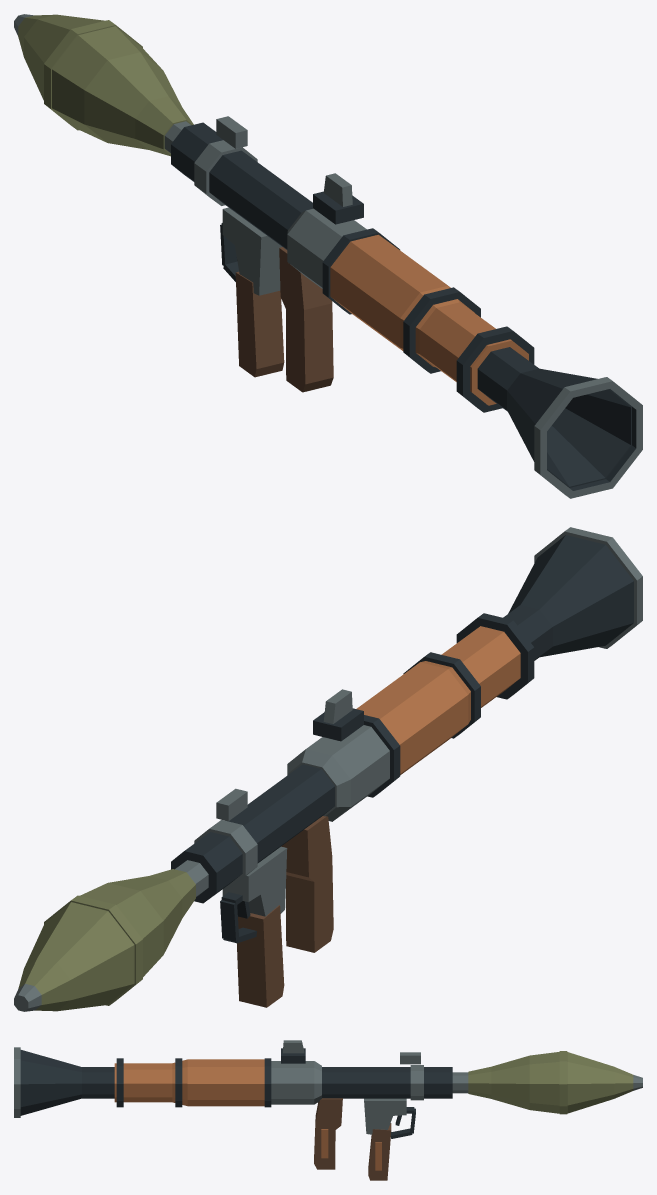
Rendered from rpg7.glb.
The picture shows the model from 3 angles, top to bottom: view 1: azimuth 30°, elevation 25°; view 2: azimuth 150°, elevation 25°; view 3: azimuth 270°, elevation 25°; orthographic projection. The views are drawn at different scales.
Visible parts, largest first — view 1: Warhead_12, Heat_shield_1, Launch_tube_0, Rear_flare_inside_6, Forward_grip_15, Pistol_grip_17, Rear_flare_5, Rear_rim_7, Trigger_housing_16, Breech_9, Shield_band_2, Shield_band_3 (+6 smaller); view 2: Warhead_12, Heat_shield_1, Rear_flare_5, Launch_tube_0, Forward_grip_15, Breech_9, Pistol_grip_17, Trigger_housing_16, Shield_band_2, Rear_rim_7, Warhead_band_13, Forward_collar_10 (+6 smaller); view 3: Warhead_12, Heat_shield_1, Launch_tube_0, Rear_flare_5, Breech_9, Forward_grip_15, Trigger_housing_16, Pistol_grip_17, Warhead_band_13, Forward_collar_10, Rear_rim_7, Shield_band_2 (+7 smaller).
Part boxes in pixels (<box>): Warhead_12: <box>18,14,193,156</box>; Heat_shield_1: <box>330,234,528,405</box>; Launch_tube_0: <box>171,122,538,411</box>; Rear_flare_inside_6: <box>547,389,630,486</box>; Forward_grip_15: <box>279,247,333,392</box>; Pistol_grip_17: <box>235,271,284,377</box>; Rear_flare_5: <box>507,368,631,487</box>; Rear_rim_7: <box>534,377,642,498</box>; Trigger_housing_16: <box>222,207,281,295</box>; Breech_9: <box>287,208,366,288</box>; Shield_band_2: <box>456,326,534,412</box>; Shield_band_3: <box>403,287,480,373</box>; Warhead_12: <box>18,869,195,1011</box>; Heat_shield_1: <box>356,626,520,774</box>; Rear_flare_5: <box>508,535,633,657</box>; Launch_tube_0: <box>171,605,552,903</box>; Forward_grip_15: <box>281,816,333,952</box>; Breech_9: <box>287,725,389,821</box>; Pistol_grip_17: <box>237,905,284,1007</box>; Trigger_housing_16: <box>222,846,287,916</box>; Shield_band_2: <box>456,613,534,699</box>; Rear_rim_7: <box>534,527,642,648</box>; Warhead_band_13: <box>44,895,142,1005</box>; Forward_collar_10: <box>194,820,257,887</box>; Warhead_12: <box>468,1052,633,1113</box>; Heat_shield_1: <box>114,1059,264,1106</box>; Launch_tube_0: <box>82,1067,452,1098</box>; Rear_flare_5: <box>20,1050,81,1115</box>; Breech_9: <box>271,1061,321,1104</box>; Forward_grip_15: <box>314,1098,342,1169</box>; Trigger_housing_16: <box>364,1098,406,1134</box>; Pistol_grip_17: <box>368,1123,391,1180</box>; Warhead_band_13: <box>559,1051,567,1114</box>; Forward_collar_10: <box>410,1065,423,1100</box>; Rear_rim_7: <box>14,1047,20,1117</box>; Shield_band_2: <box>116,1058,123,1107</box>.
Bounding box in the file's own units: 0.17 × 0.388 × 1.64.
